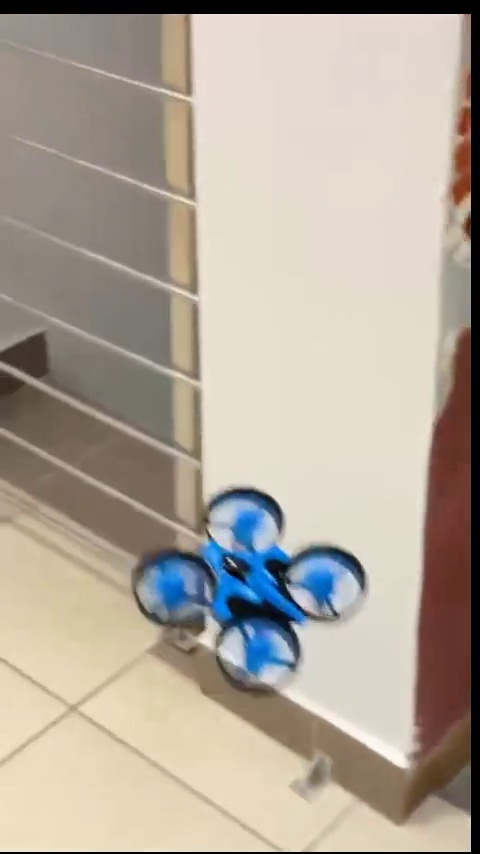drone: (128, 491, 361, 692)
